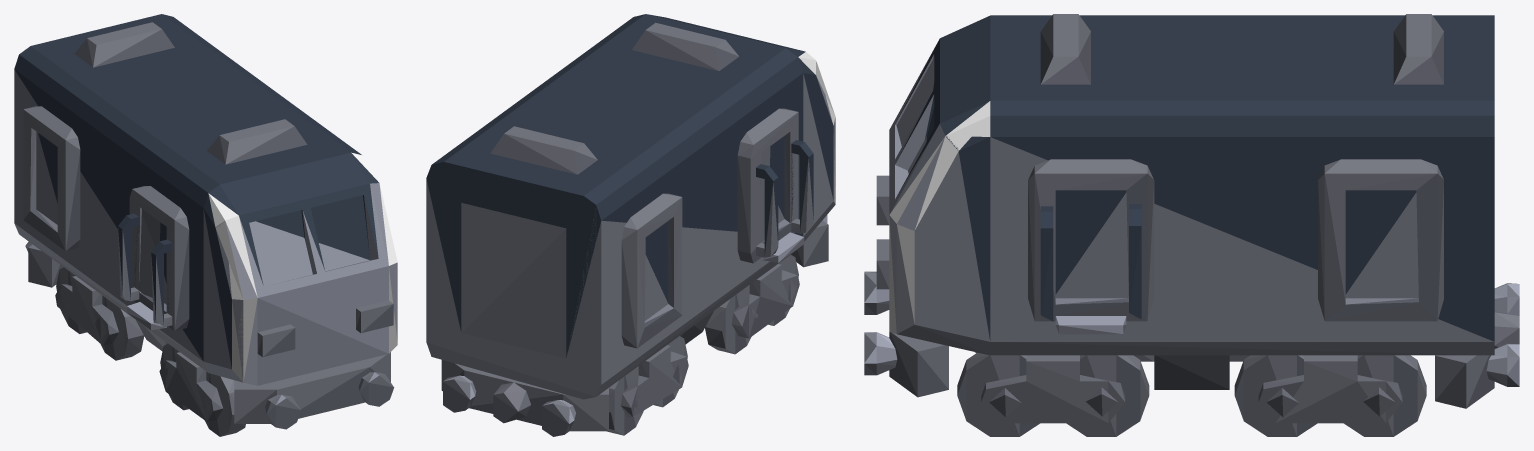
Rendered from metro.car.glb.
3 renders of one model, left to right at view 1: azimuth 30°, elevation 25°; view 2: azimuth 150°, elevation 25°; view 3: azimuth 270°, elevation 25°, orthographic. The views are drawn at different scales.
Parts seen in each view (by area): view 1: near, far; view 2: near, far; view 3: near, far.
Part boxes in pixels (x1=…): near: x1=14, y1=14, x2=397, y2=436; far: x1=134, y1=195, x2=369, y2=381; near: x1=426, y1=14, x2=835, y2=436; far: x1=463, y1=61, x2=835, y2=383; near: x1=864, y1=14, x2=1519, y2=436; far: x1=896, y1=57, x2=988, y2=174.
Size of the model in its own units: 2.8 by 3.26 by 5.39.
